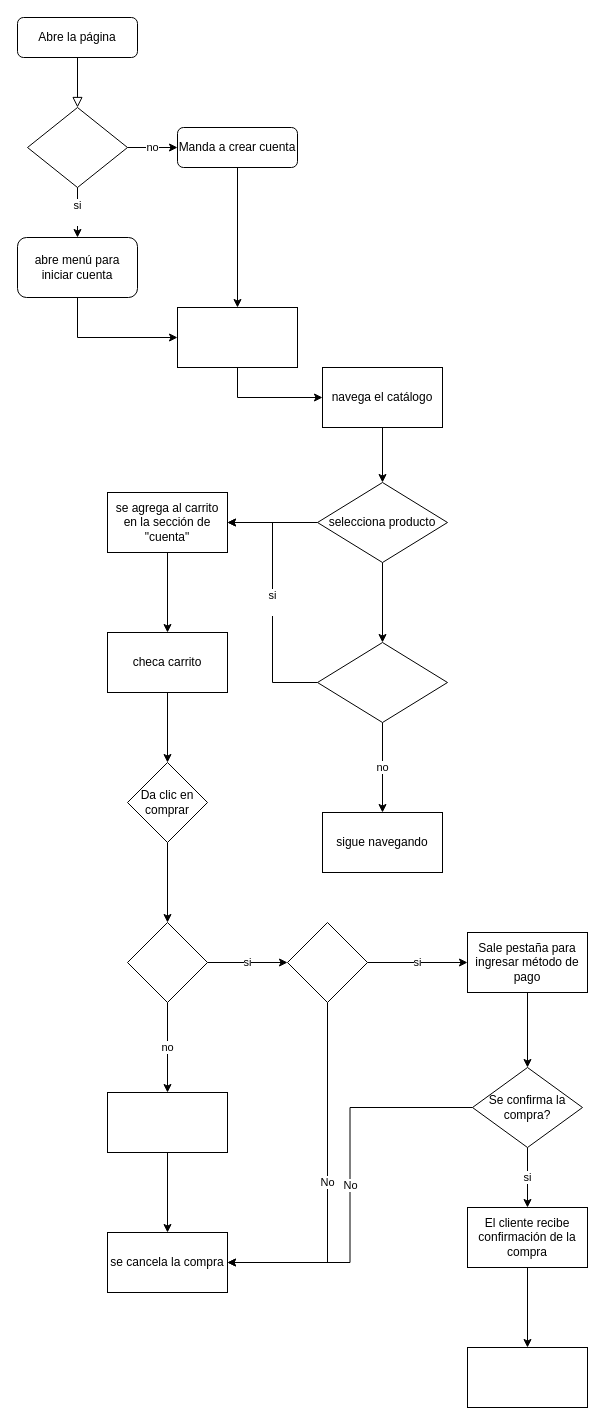
This 605x1425 diagram has some shape labels left out. The shapes that lost their labels are listed below. From the top down, each one's centre as x and y in pixels, then its label:
pixel 77 147: Tiene cuenta?
pixel 237 337: se inicia la cuenta y manda a la página principal
pixel 382 682: Selecciona otro producto?
pixel 167 962: Hay stock?
pixel 327 962: La compra sigue?
pixel 167 1122: Sale mensaje de "no hay stock disponible"
pixel 527 1377: Se descuenta el stock del producto
